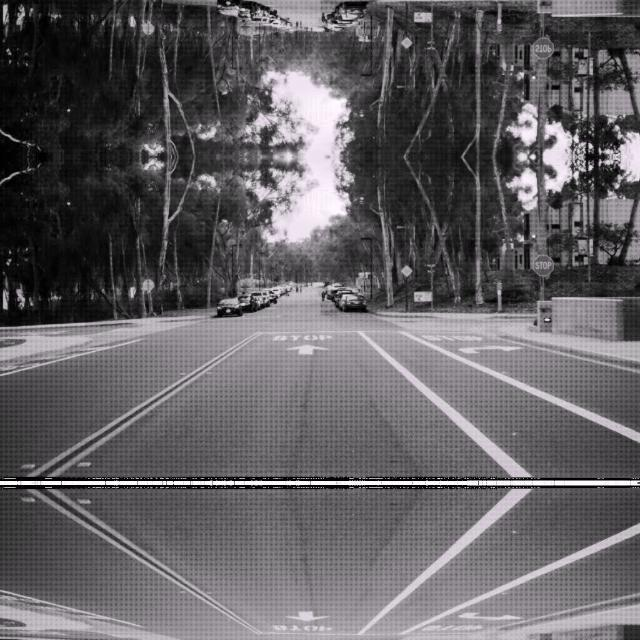stop: (532, 253, 554, 275), (532, 37, 554, 59)
